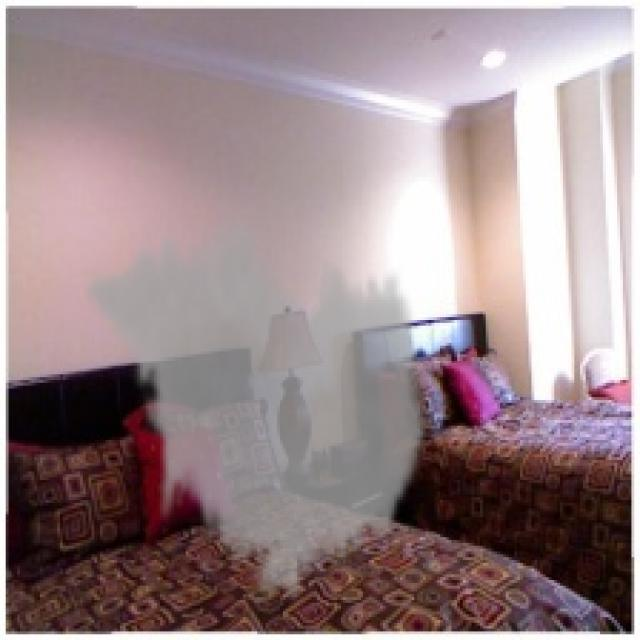smoke: (83, 206, 431, 608)
